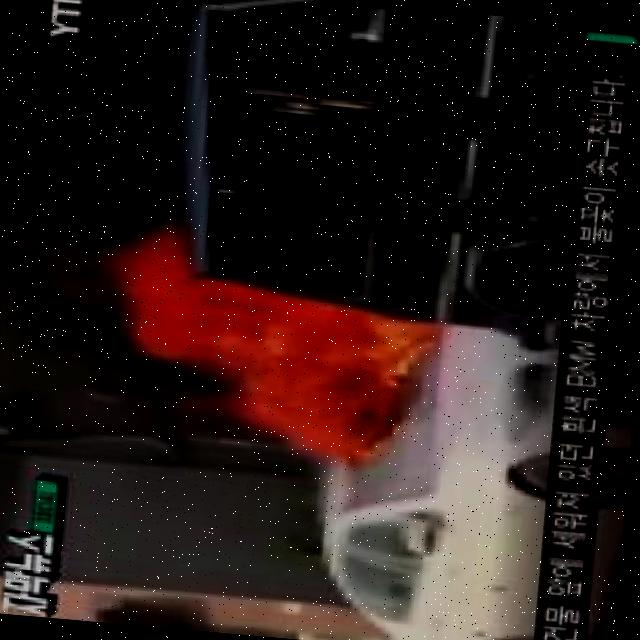fire: (80, 197, 464, 479)
